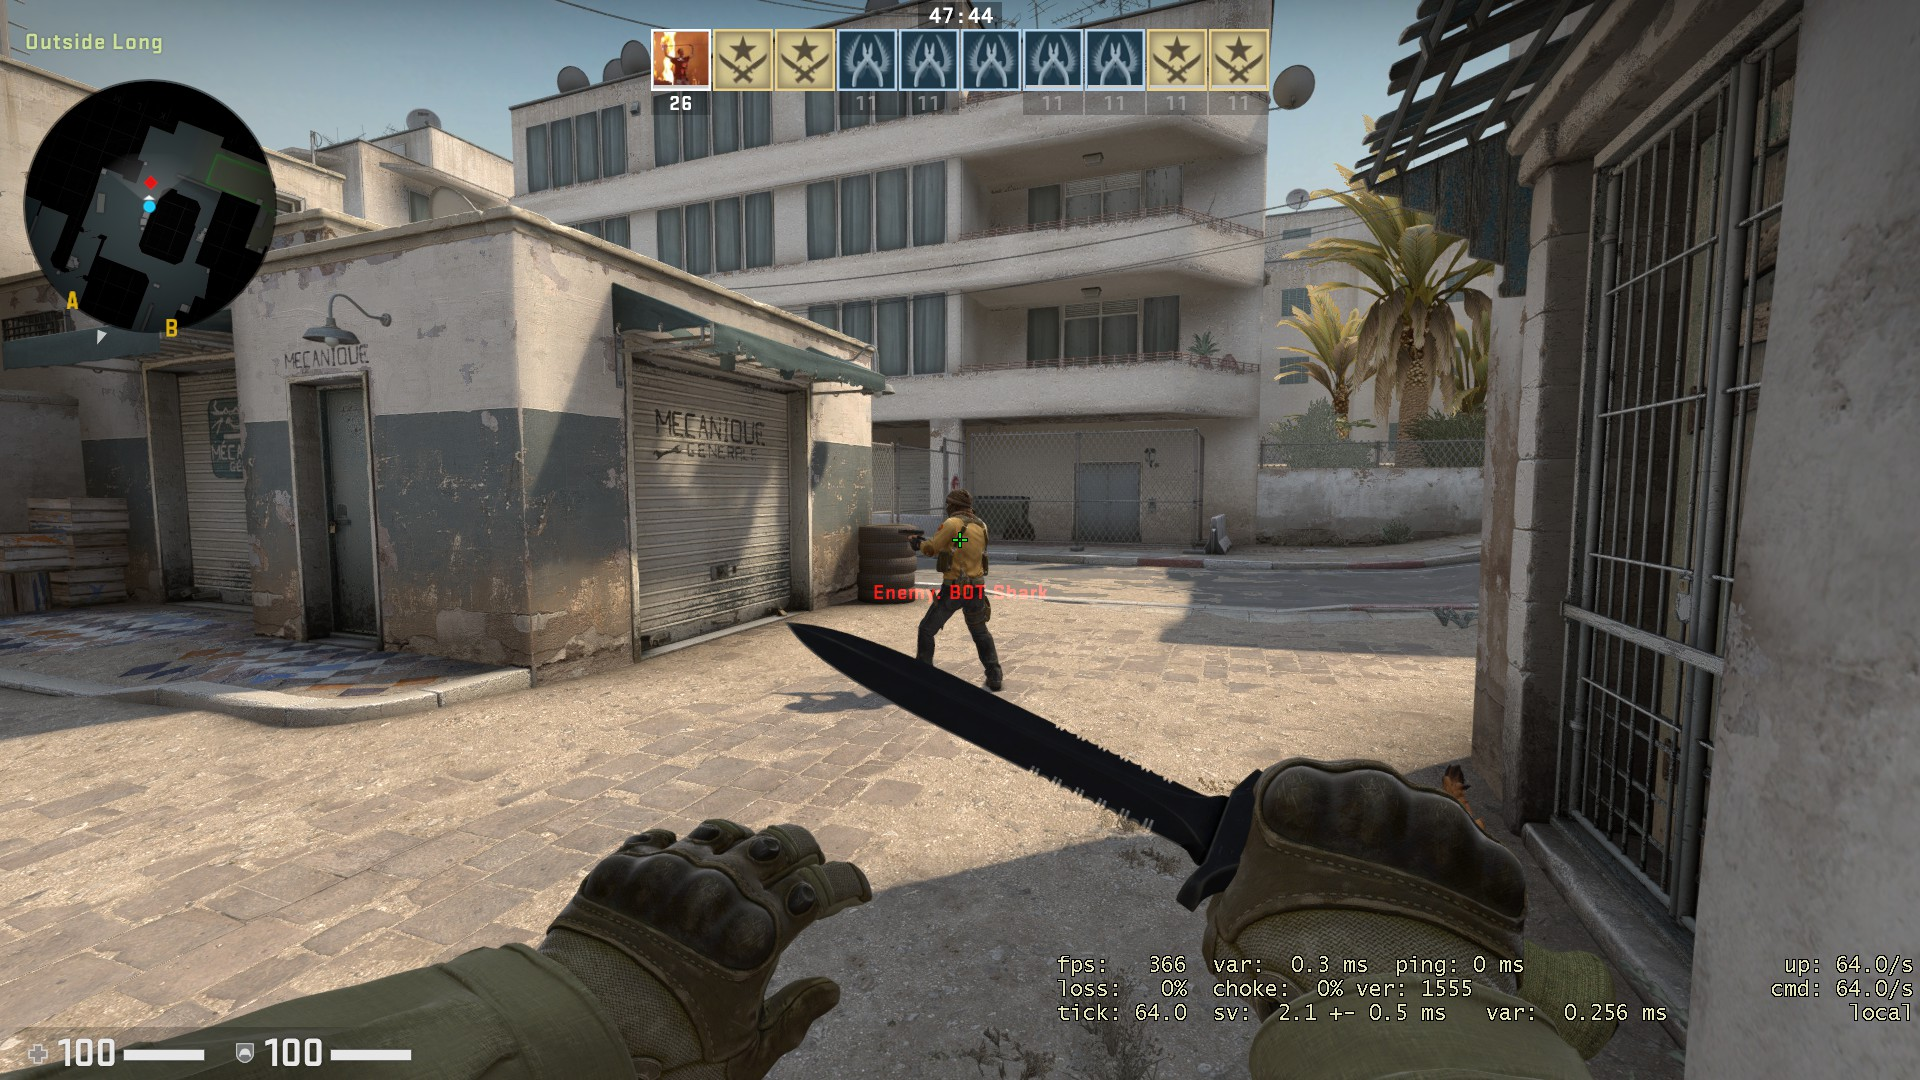player: (896, 484, 1010, 696)
